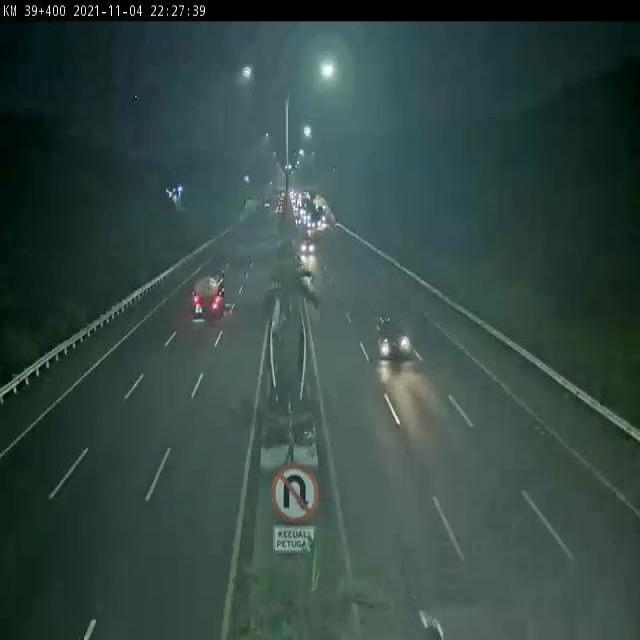car: (378, 313, 409, 359)
truck-l-: (194, 271, 228, 320)
